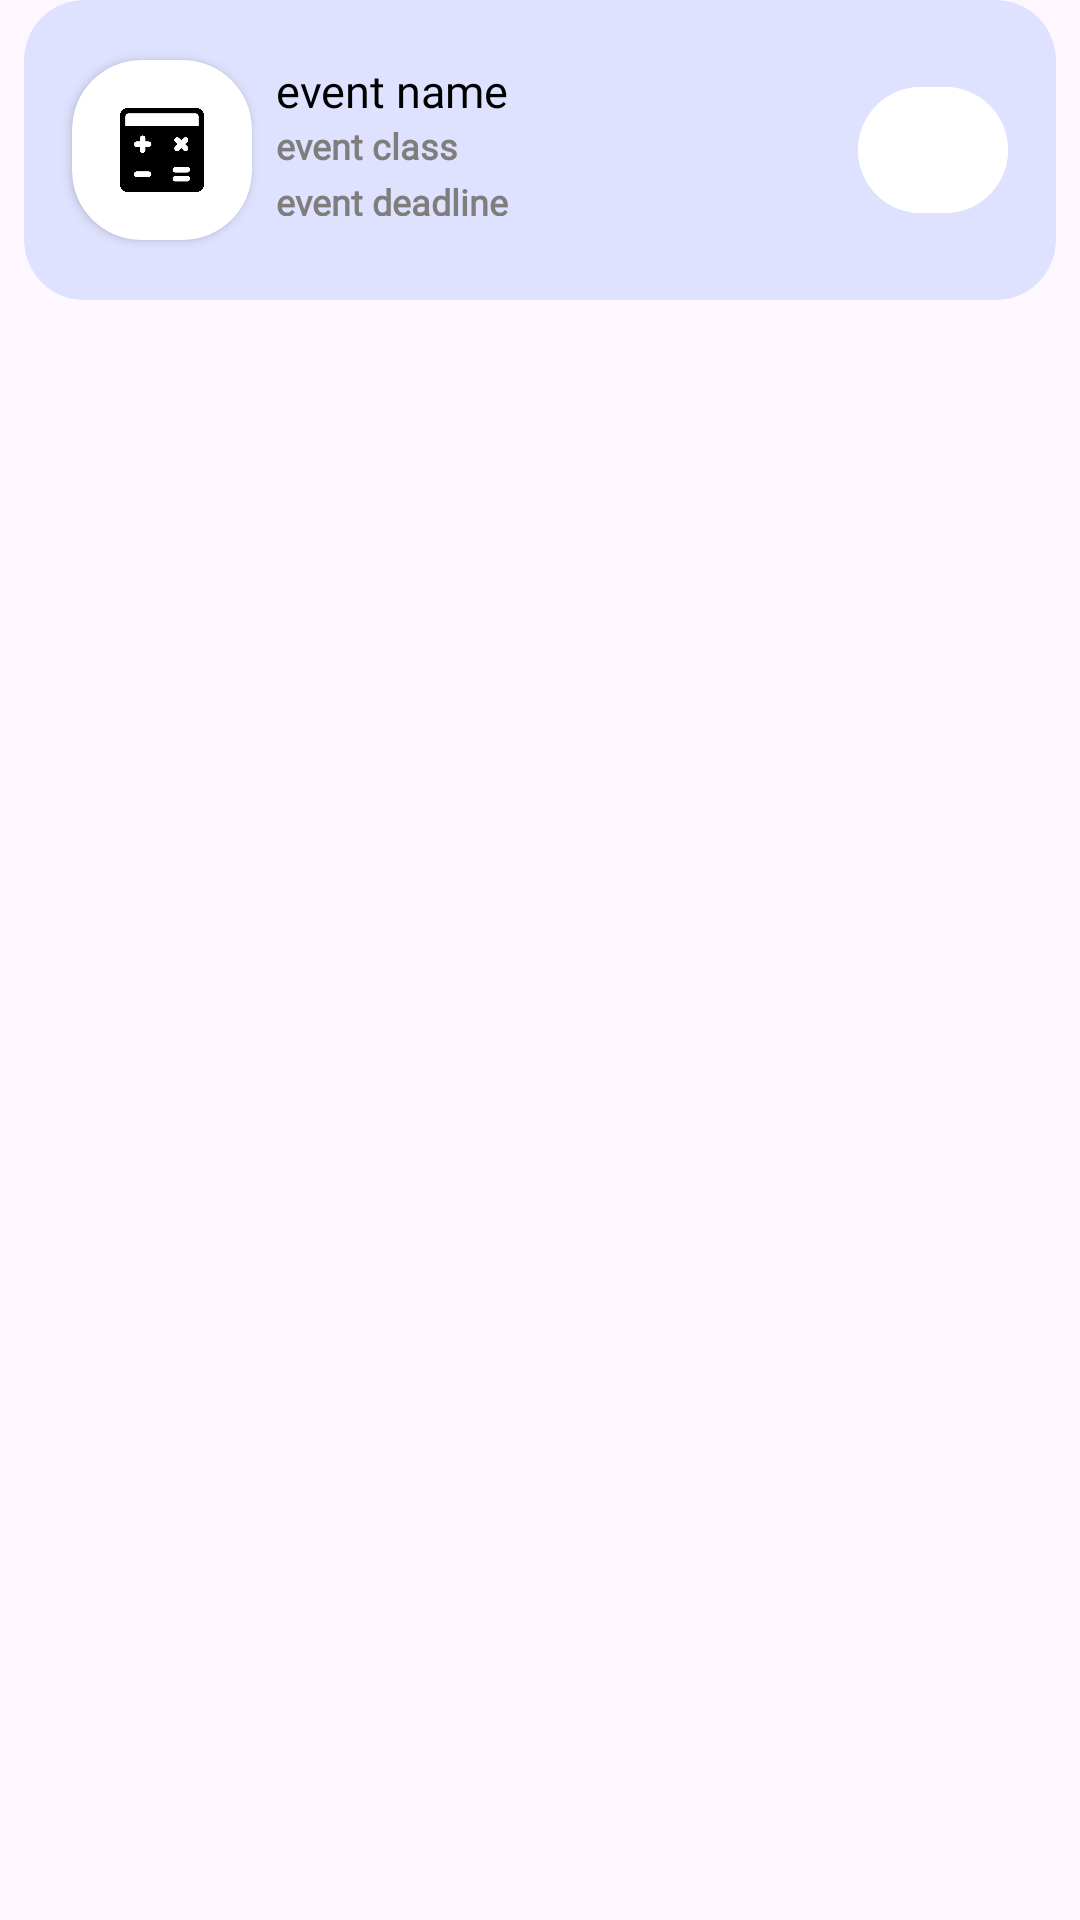

Screen size 1080px x 1920px. Icon name, then its center in pixels as (x=x, y=y):
calculator: (x=162, y=150)
